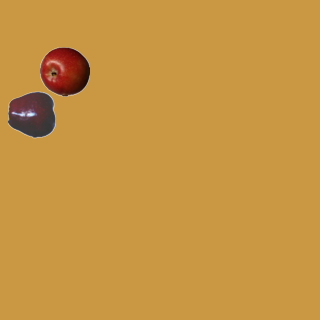Apple Braeburn: (39, 46, 89, 96)
Apple Red Delicious: (7, 89, 57, 139)
